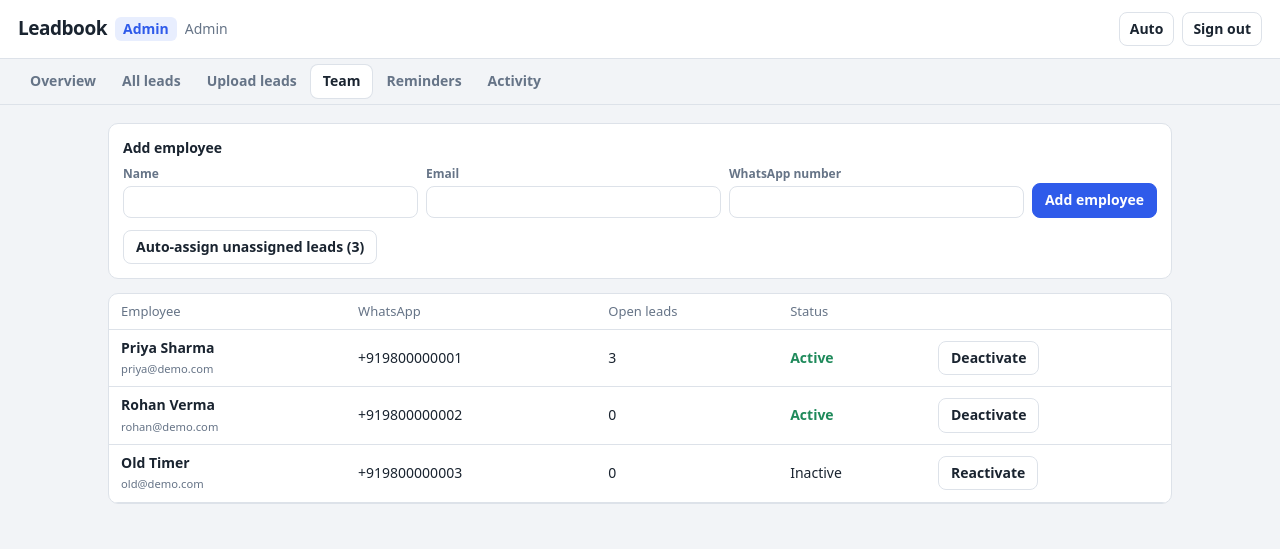
Team (7.5) › auto-assigns the unassigned pool and reports who got what
This screenshot has width=1280, height=549.
Click the button "Auto-assign unassigned leads (3)" at (250,247), box left=123, top=230, right=377, bottom=264
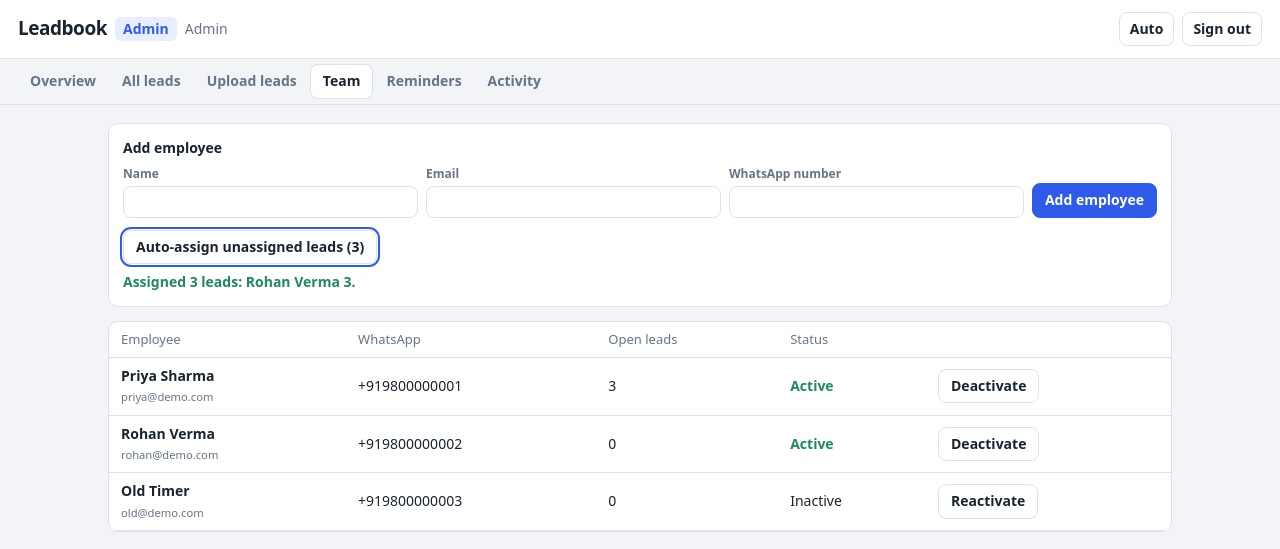
Result: the text "Assigned 3 leads: Rohan Verma 3." is shown at left=123, top=272, right=356, bottom=291
